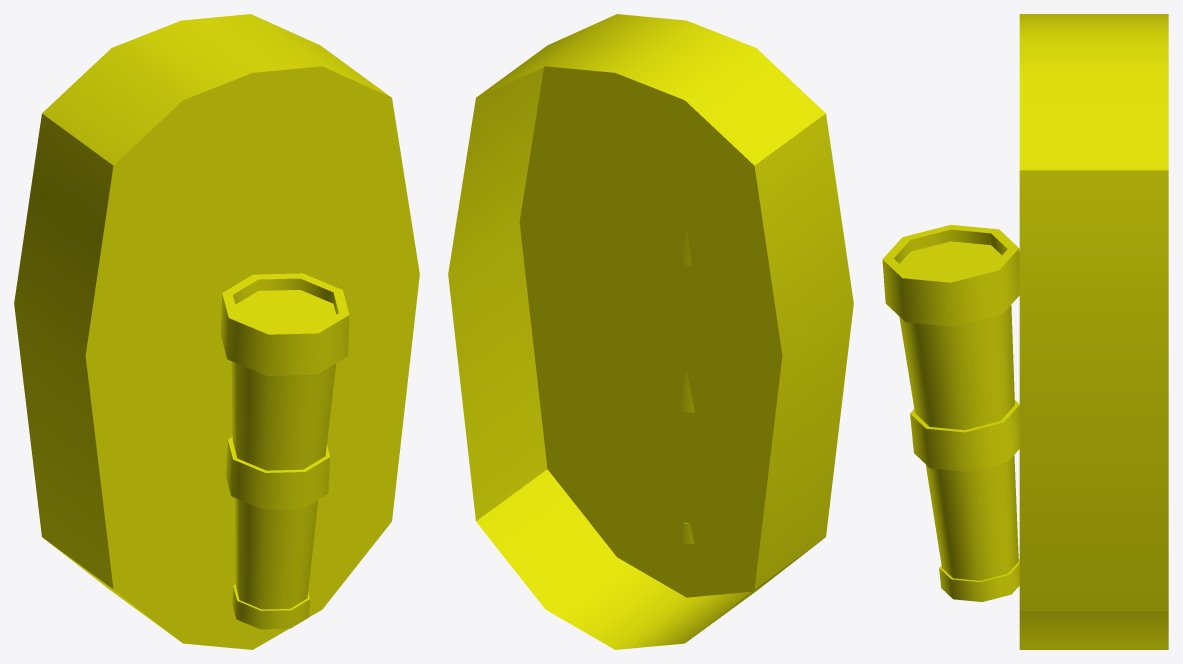
Rendered from m_torch.fbx.
The picture shows the model from 3 angles, left to right: view 1: azimuth 30°, elevation 25°; view 2: azimuth 150°, elevation 25°; view 3: azimuth 270°, elevation 25°; orthographic projection. The views are drawn at different scales.
Parts seen in each view (by area): view 1: m_torch; view 2: m_torch; view 3: m_torch.
Boxes of the visible parts, x1,y1,x2,y2 form: m_torch: (14, 14, 419, 649); m_torch: (448, 14, 853, 649); m_torch: (882, 14, 1168, 649).
Bounding box in the file's own units: 0.675 × 1.11 × 0.4808.
